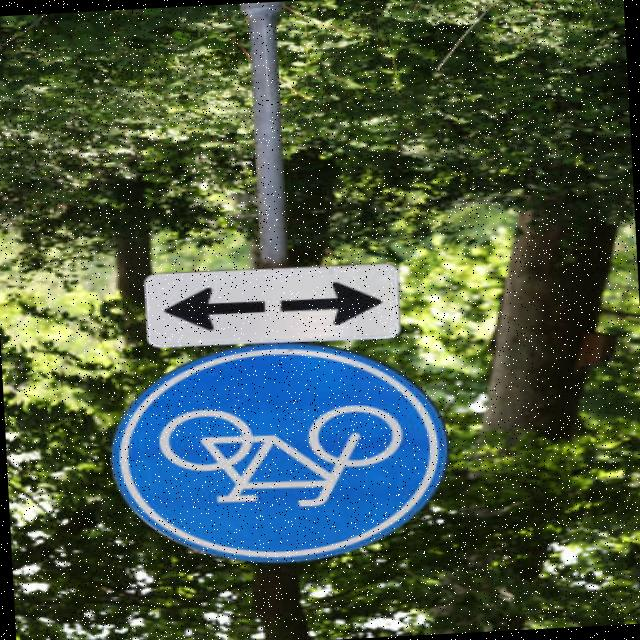bicycle: (80, 333, 460, 576)
